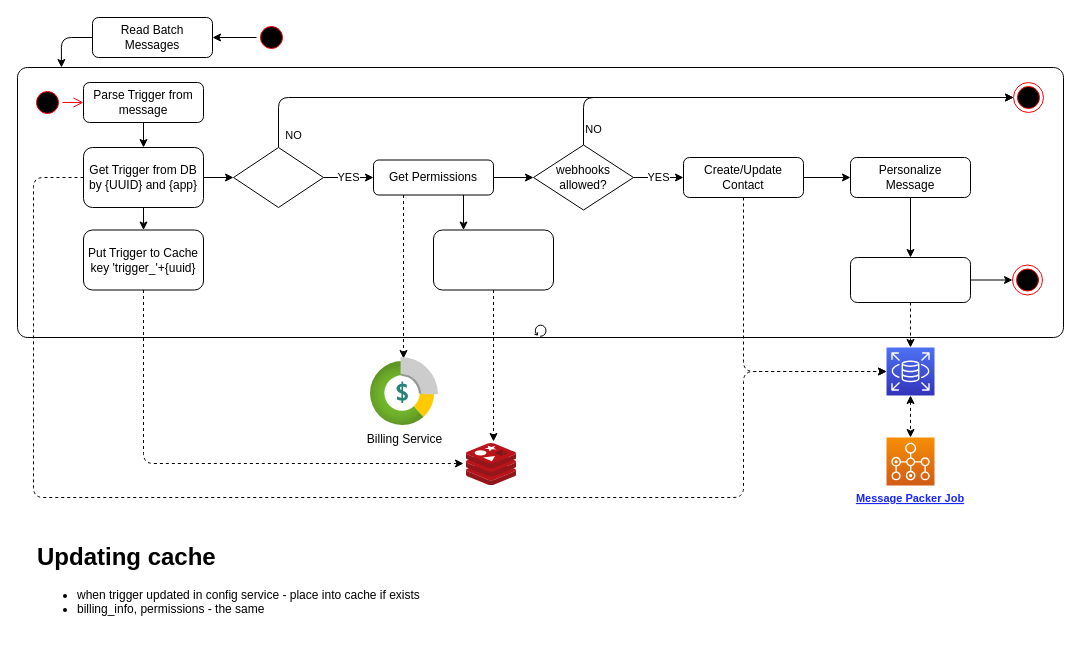
Image size: 1081x645. Some labels were removed from this diagram. Here are the shapes that lost their labels. From the top down, the box of each, then its label:
(232, 146, 324, 208): Active && same app
(432, 229, 554, 290): Put to Cache key 'permissions_'+{organizationId}
(850, 256, 970, 302): Save message status: Created
(886, 346, 934, 396): Database
(466, 443, 516, 485): Distributed Cache
